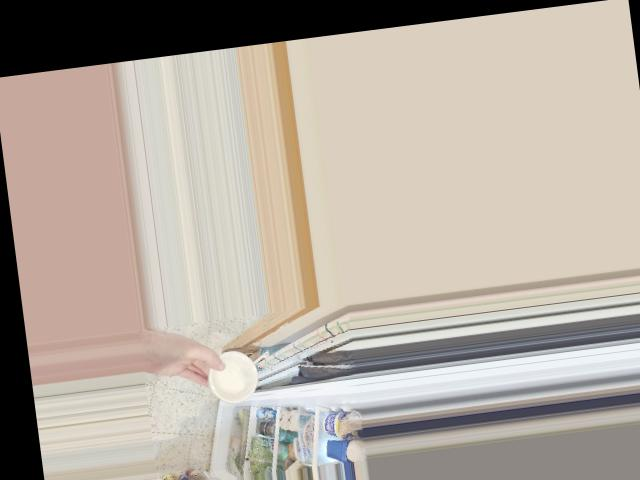cotage: (208, 350, 260, 404)
